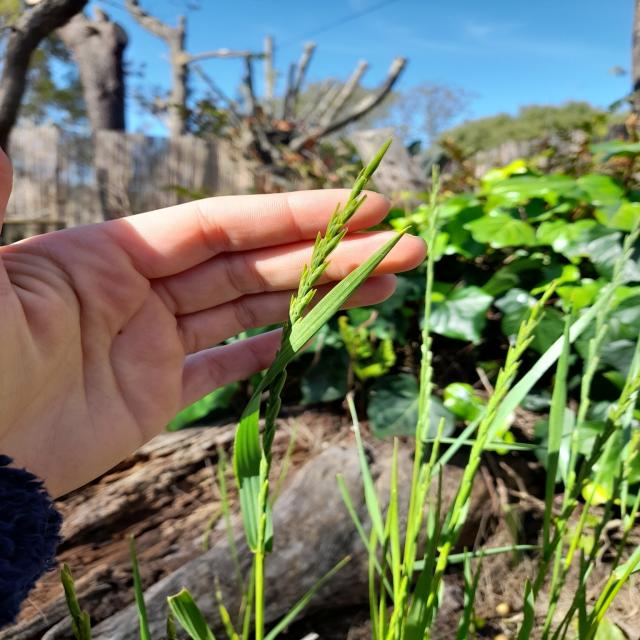Lolium: (226, 134, 430, 637), (417, 287, 562, 625), (552, 284, 608, 626)
